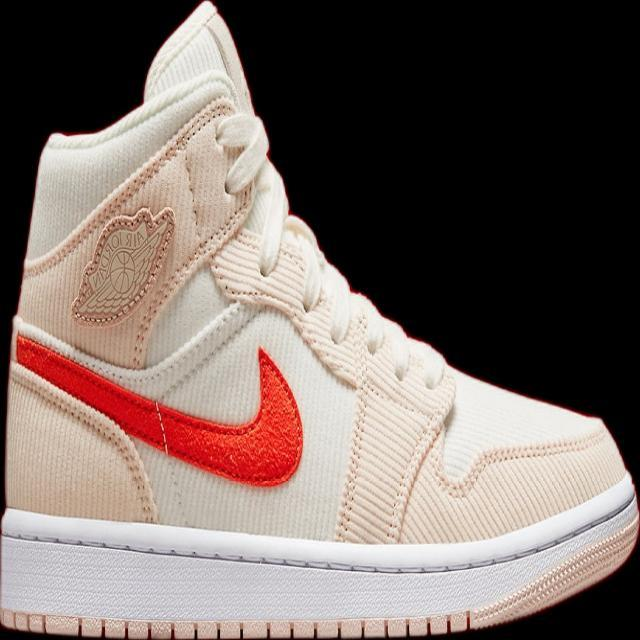J1_InsoleChar: (0, 0, 638, 639)
J1_ShoeLogo: (69, 204, 176, 326)
J1_StitchPattern: (0, 496, 637, 638), (209, 215, 455, 544), (67, 94, 237, 328), (332, 334, 455, 545), (7, 360, 160, 524), (472, 510, 638, 627), (0, 608, 474, 639)
